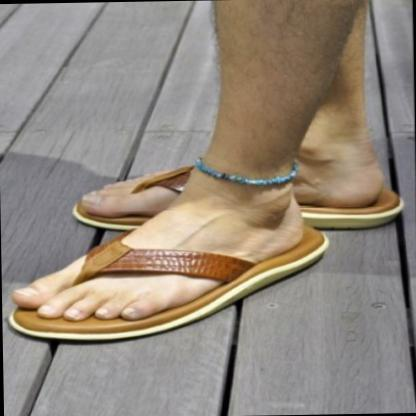no_safety-shoe: (18, 202, 325, 360), (81, 152, 416, 242)
